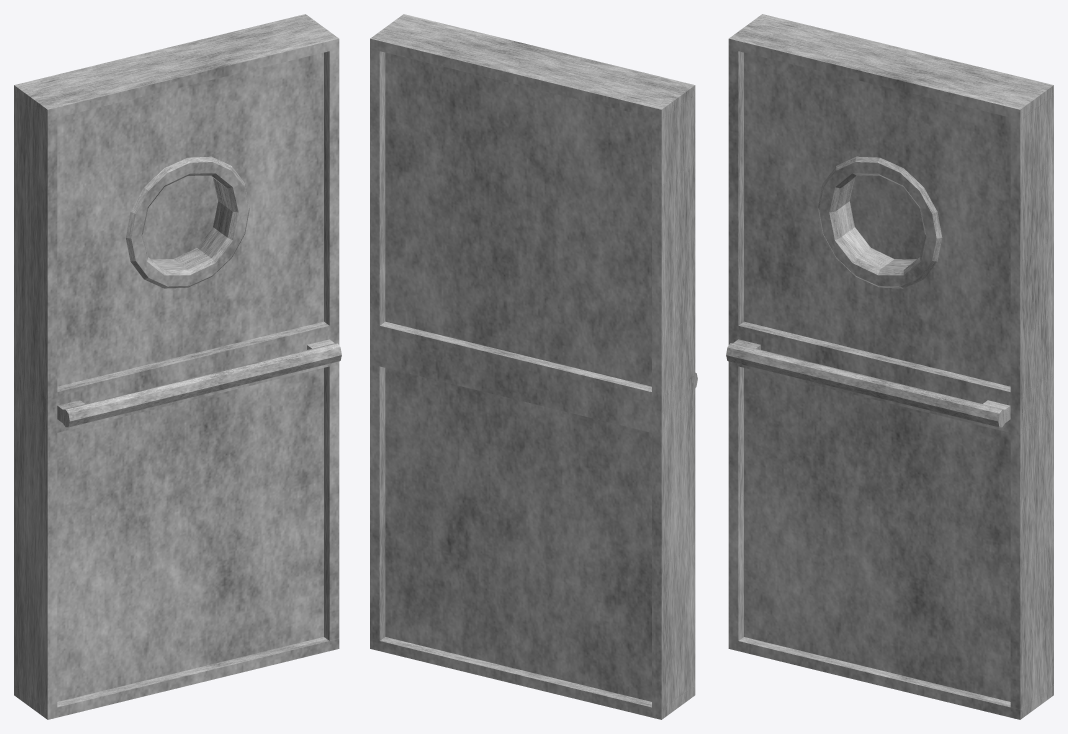
The model's file is SpecialDoor.fbx.
3 views of the same model, side by side, from view 1: azimuth 30°, elevation 25°; view 2: azimuth 150°, elevation 25°; view 3: azimuth 330°, elevation 25° (orthographic).
Visible parts, largest first — view 1: SpecialDoor; view 2: SpecialDoor; view 3: SpecialDoor.
Part boxes in pixels (x1,y1,x2,y2): SpecialDoor: (14, 14, 341, 719); SpecialDoor: (370, 14, 697, 719); SpecialDoor: (726, 14, 1053, 719).
Size of the model in its own units: 300 by 600 by 81.98.
Materials: 1 (1 with a texture image).
